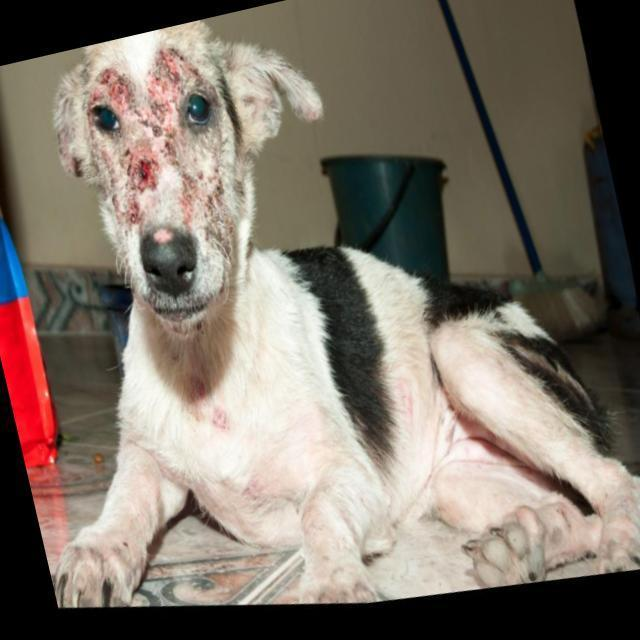mange: (81, 46, 232, 271)
